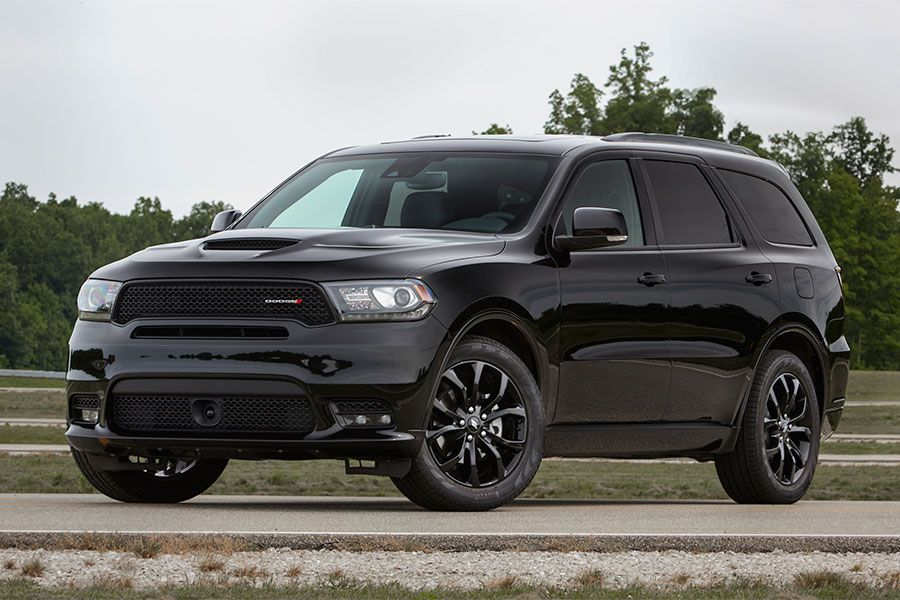car: (63, 132, 851, 511)
